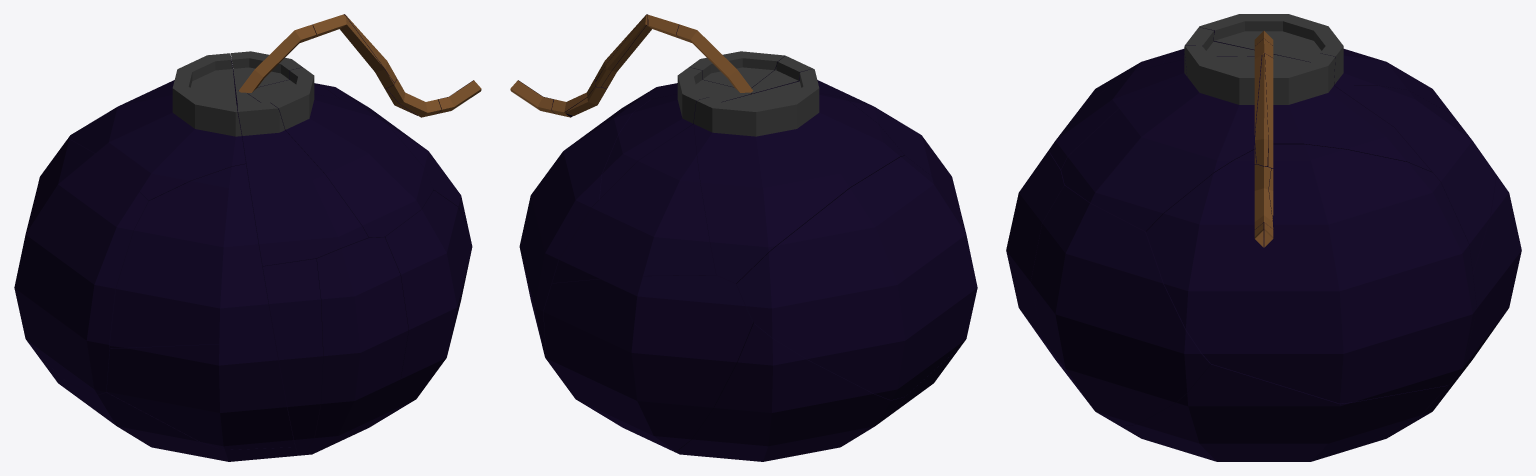
File: bombshattered.fbx
The picture shows the model from 3 angles, left to right: view 1: azimuth 30°, elevation 25°; view 2: azimuth 150°, elevation 25°; view 3: azimuth 270°, elevation 25°; orthographic projection. The views are drawn at different scales.
Parts seen in each view (by area): view 1: Sphere_cell.024_cell.002, Sphere_cell.024_cell.006, Sphere_cell.024_cell.007, Sphere_cell.025_cell.004, Sphere_cell.024_cell.001, Sphere_cell.025_cell.005, Sphere_cell.025_cell.001, Sphere_cell.025_cell, Sphere_cell.025_cell.002, Sphere_cell.024_cell.005, Sphere_cell.025_cell.006, Sphere_cell.025_cell.007 (+4 smaller); view 2: Sphere_cell.024_cell.006, Sphere_cell.024_cell.004, Sphere_cell.024_cell.001, Sphere_cell.024_cell, Sphere_cell.024_cell.003, Sphere_cell.025_cell.006, Sphere_cell.025_cell.007, Sphere_cell.024_cell.002, Sphere_cell.025_cell.005, Sphere_cell.025_cell.001, Sphere_cell.023_cell.006, Sphere_cell.023_cell.002 (+4 smaller); view 3: Sphere_cell.025_cell.006, Sphere_cell.025_cell, Sphere_cell.025_cell.005, Sphere_cell.025_cell.003, Sphere_cell.024_cell.003, Sphere_cell.025_cell.007, Sphere_cell.024_cell.001, Sphere_cell.024_cell.004, Sphere_cell.025_cell.001, Sphere_cell.025_cell.004, Sphere_cell.023_cell.007, Sphere_cell.023_cell.005 (+3 smaller).
Part boxes in pixels (x1,y1,x2,y2): Sphere_cell.024_cell.002: (109, 164, 273, 348); Sphere_cell.024_cell.006: (14, 139, 148, 394); Sphere_cell.024_cell.007: (106, 328, 295, 449); Sphere_cell.025_cell.004: (304, 237, 408, 455); Sphere_cell.024_cell.001: (68, 53, 247, 200); Sphere_cell.025_cell.005: (247, 67, 433, 238); Sphere_cell.025_cell.001: (236, 90, 368, 266); Sphere_cell.025_cell: (351, 190, 472, 434); Sphere_cell.025_cell.002: (263, 259, 323, 455); Sphere_cell.024_cell.005: (67, 382, 297, 461); Sphere_cell.025_cell.006: (314, 83, 467, 226); Sphere_cell.025_cell.007: (231, 51, 339, 99); Sphere_cell.024_cell.006: (736, 156, 977, 400); Sphere_cell.024_cell.004: (543, 275, 752, 451); Sphere_cell.024_cell.001: (693, 68, 904, 284); Sphere_cell.024_cell: (674, 322, 904, 461); Sphere_cell.024_cell.003: (552, 124, 716, 283); Sphere_cell.025_cell.006: (519, 91, 650, 361); Sphere_cell.025_cell.007: (600, 67, 750, 198); Sphere_cell.024_cell.002: (838, 96, 963, 223); Sphere_cell.025_cell.005: (649, 51, 785, 99); Sphere_cell.025_cell.001: (751, 56, 859, 99); Sphere_cell.023_cell.006: (676, 24, 753, 92); Sphere_cell.023_cell.002: (601, 14, 679, 88); Sphere_cell.025_cell.006: (1146, 144, 1476, 403); Sphere_cell.025_cell: (1031, 185, 1210, 426); Sphere_cell.025_cell.005: (1061, 45, 1254, 231); Sphere_cell.025_cell.003: (1121, 363, 1447, 461); Sphere_cell.024_cell.003: (1334, 85, 1496, 273); Sphere_cell.025_cell.007: (1273, 53, 1431, 171); Sphere_cell.024_cell.001: (1163, 14, 1452, 114); Sphere_cell.024_cell.004: (1360, 175, 1521, 446); Sphere_cell.025_cell.001: (1048, 27, 1254, 169); Sphere_cell.025_cell.004: (1006, 150, 1072, 381); Sphere_cell.023_cell.007: (1255, 53, 1268, 166); Sphere_cell.023_cell.005: (1254, 164, 1273, 237).
Size of the model in its own units: 212 by 187 by 200.
